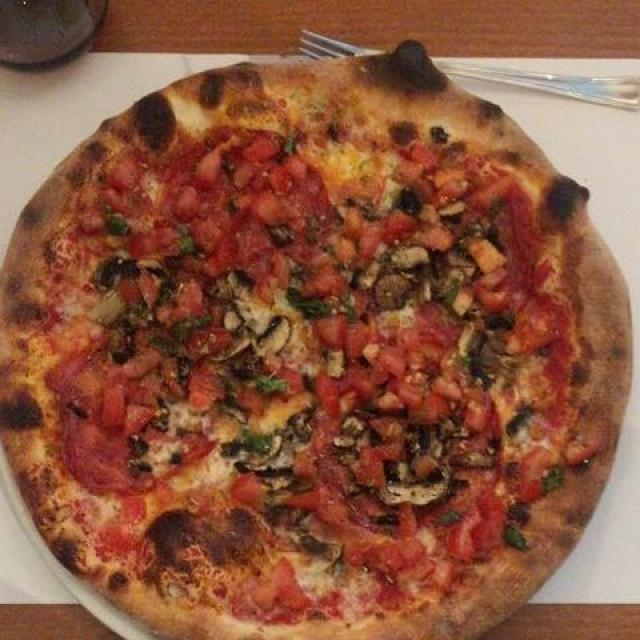pizza: (17, 57, 619, 622)
